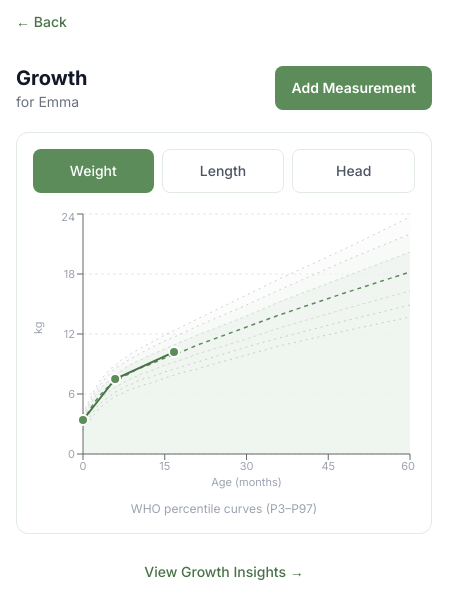
Scenario: GrowthPage › should show add measurement form when button clicked
The image size is (449, 606).
Expected: the text "for Emma" is shown, [16,92,88,112]
Click the button "Add Measurement": (354, 88) [276,66,432,110]
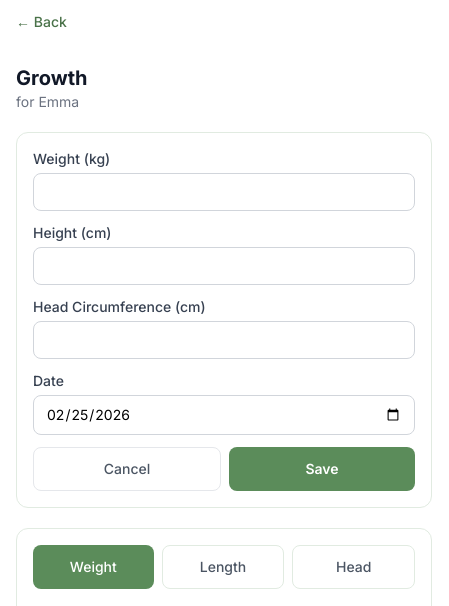
Expected: the number field labelled "Weight (kg)" is shown, [33,173,415,211]
Expected: the number field labelled "Height (cm)" is shown, [33,247,415,285]
